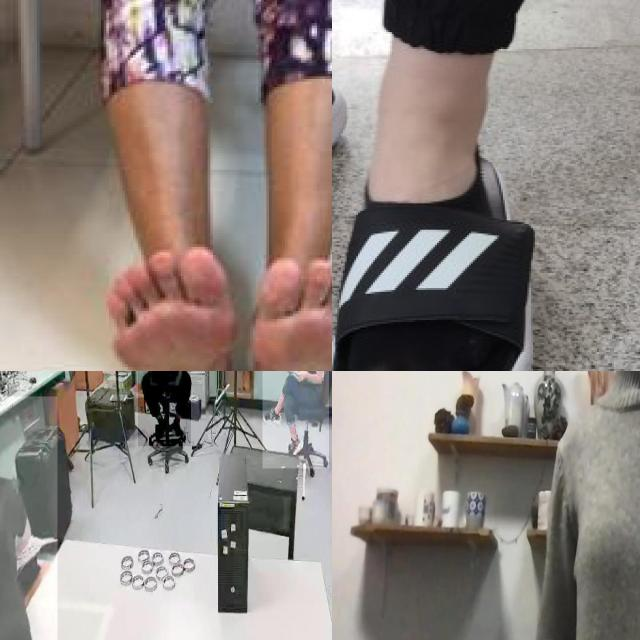Barefoots: (106, 243, 244, 371), (250, 248, 332, 371)
Sandals: (332, 125, 534, 371)
hand_noglove: (293, 371, 308, 381)
person: (0, 396, 58, 640), (262, 371, 329, 469), (138, 371, 191, 447)
shoes: (171, 415, 188, 443), (262, 405, 284, 426), (286, 432, 303, 458), (152, 417, 168, 442)
